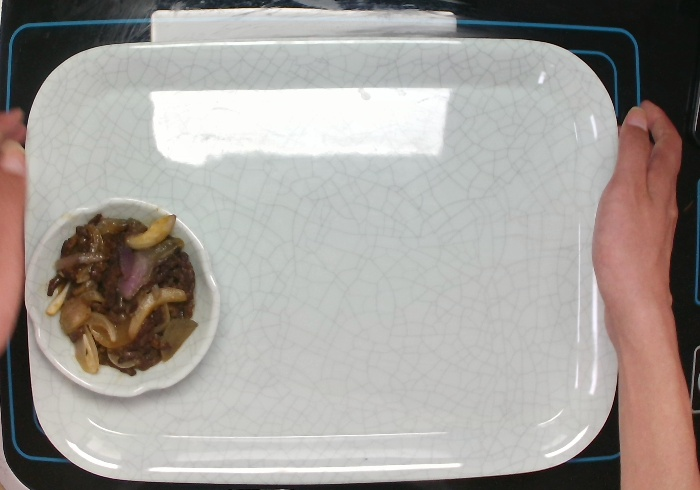JYsf-Ao_Yuan_Wan: (23, 194, 222, 401)
